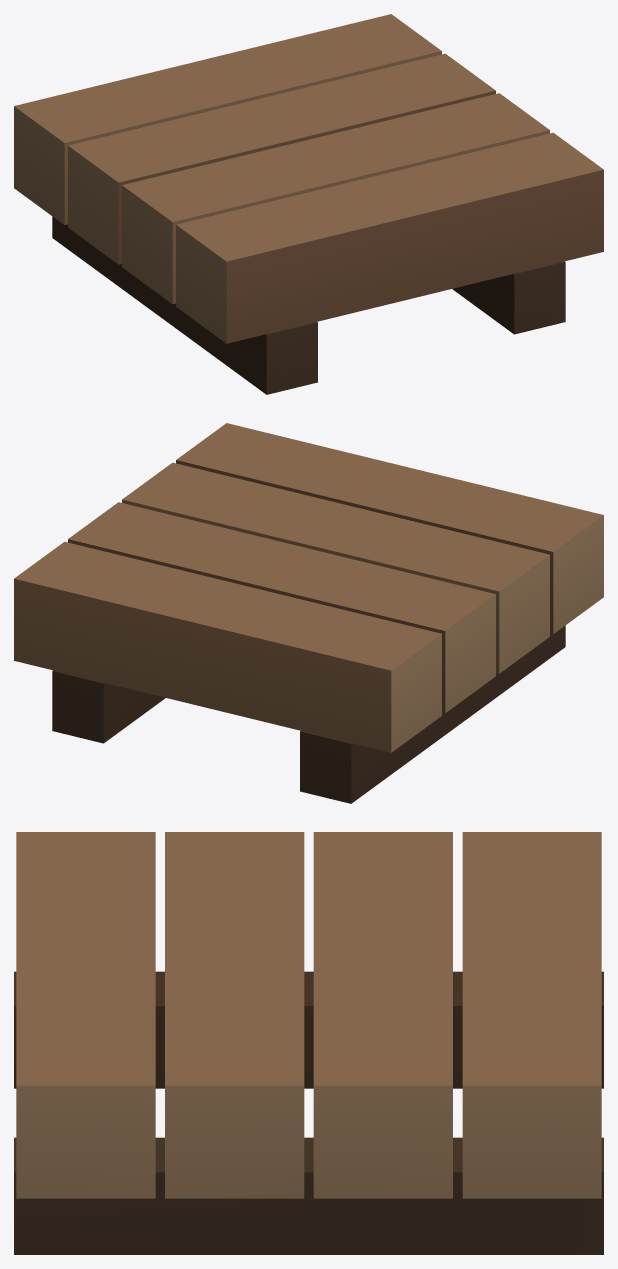
Rendered from custom-degrau-tronco.glb.
3 views of the same model, one above another, from view 1: azimuth 30°, elevation 25°; view 2: azimuth 150°, elevation 25°; view 3: azimuth 270°, elevation 25° (orthographic). The views are drawn at different scales.
Visible parts, largest first — view 1: degrau-tronco; view 2: degrau-tronco; view 3: degrau-tronco.
Part boxes in pixels (x1,y1,x2,y2): degrau-tronco: [14, 14, 603, 394]; degrau-tronco: [14, 423, 603, 803]; degrau-tronco: [14, 832, 603, 1254].
Size of the model in its own units: 2.5 by 0.9 by 2.46.
